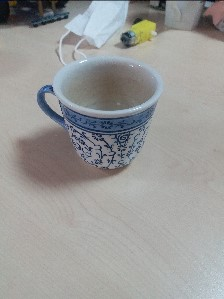cup: (34, 54, 167, 174)
